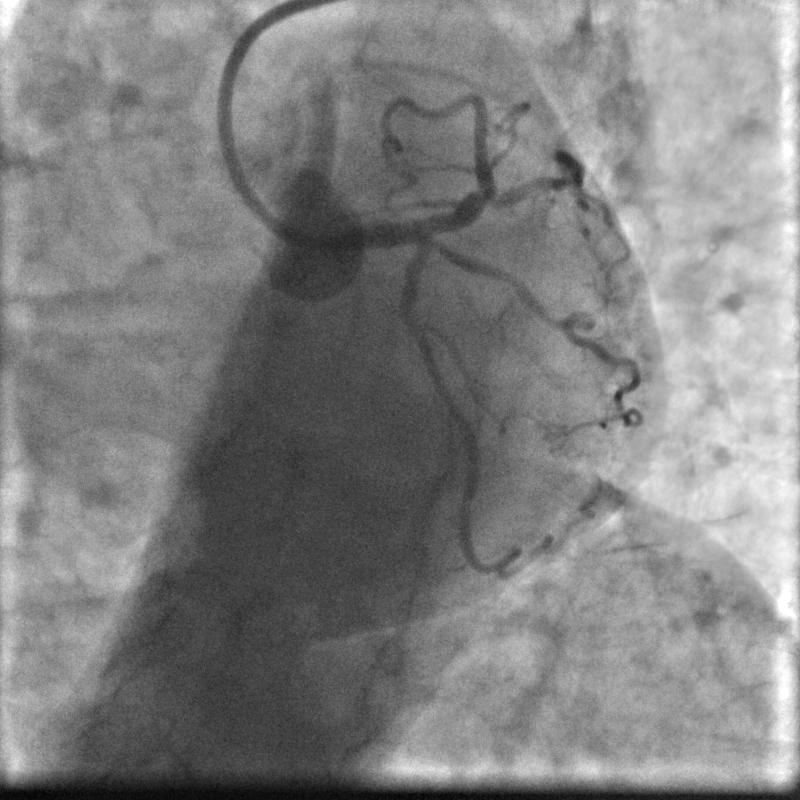Stenosis: (396, 304, 426, 335)
